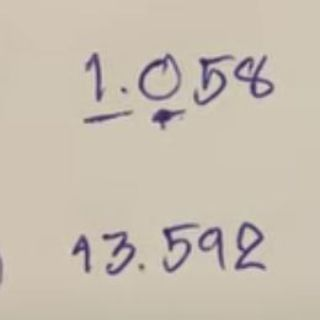.: (114, 82, 133, 99), (135, 260, 148, 273)
0: (137, 53, 183, 101)
1: (68, 233, 93, 276), (85, 50, 105, 103)
2: (232, 220, 268, 272)
3: (100, 229, 136, 277)
5: (192, 53, 236, 107), (161, 221, 201, 274)
8: (234, 54, 277, 99)
9: (197, 225, 228, 272)
